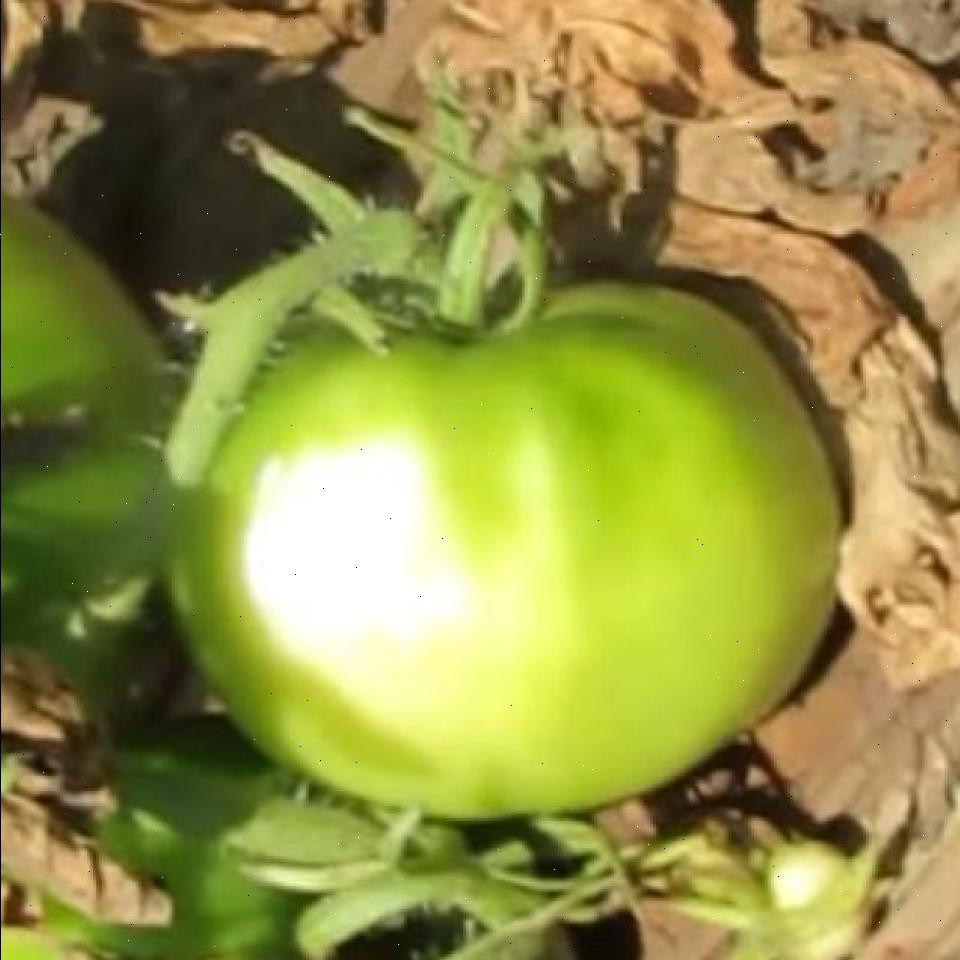Sunscald: (214, 407, 542, 718)
